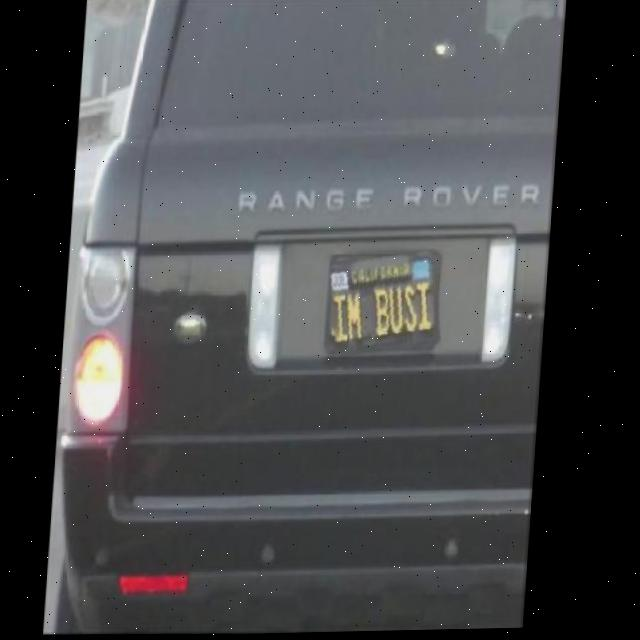LicensePlate: (330, 252, 446, 357)
